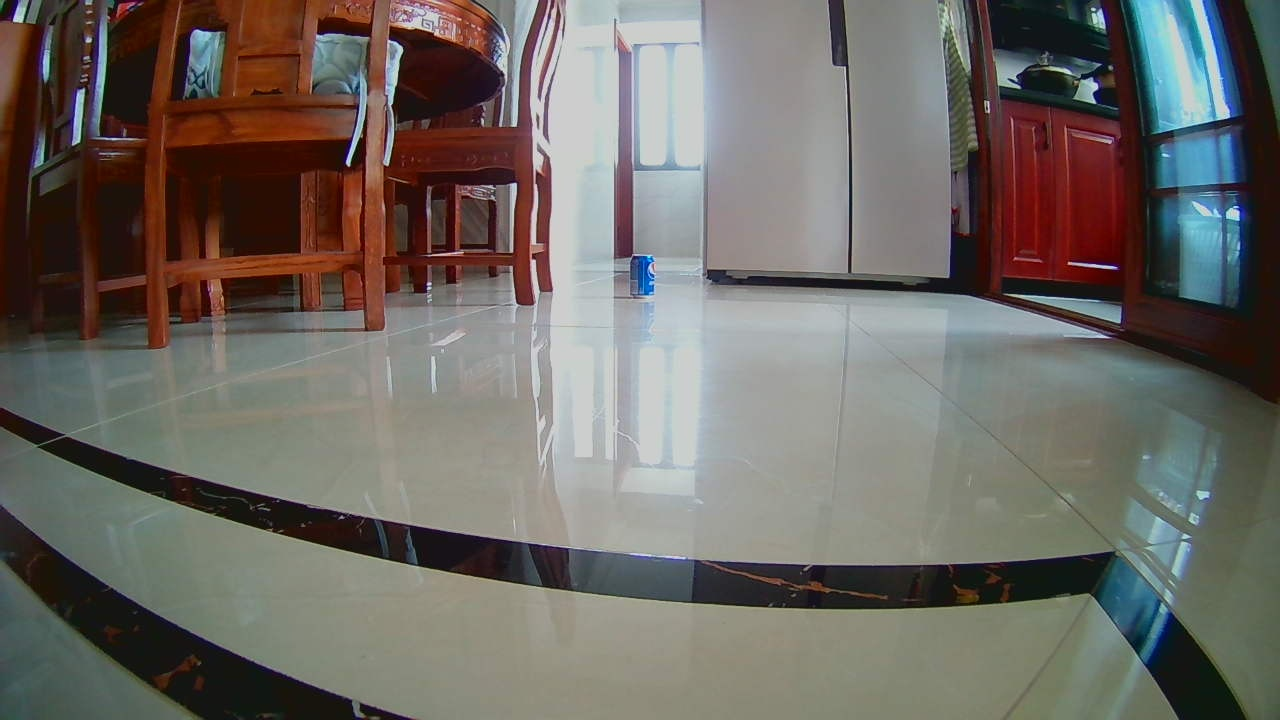pessi: (631, 253, 653, 299)
